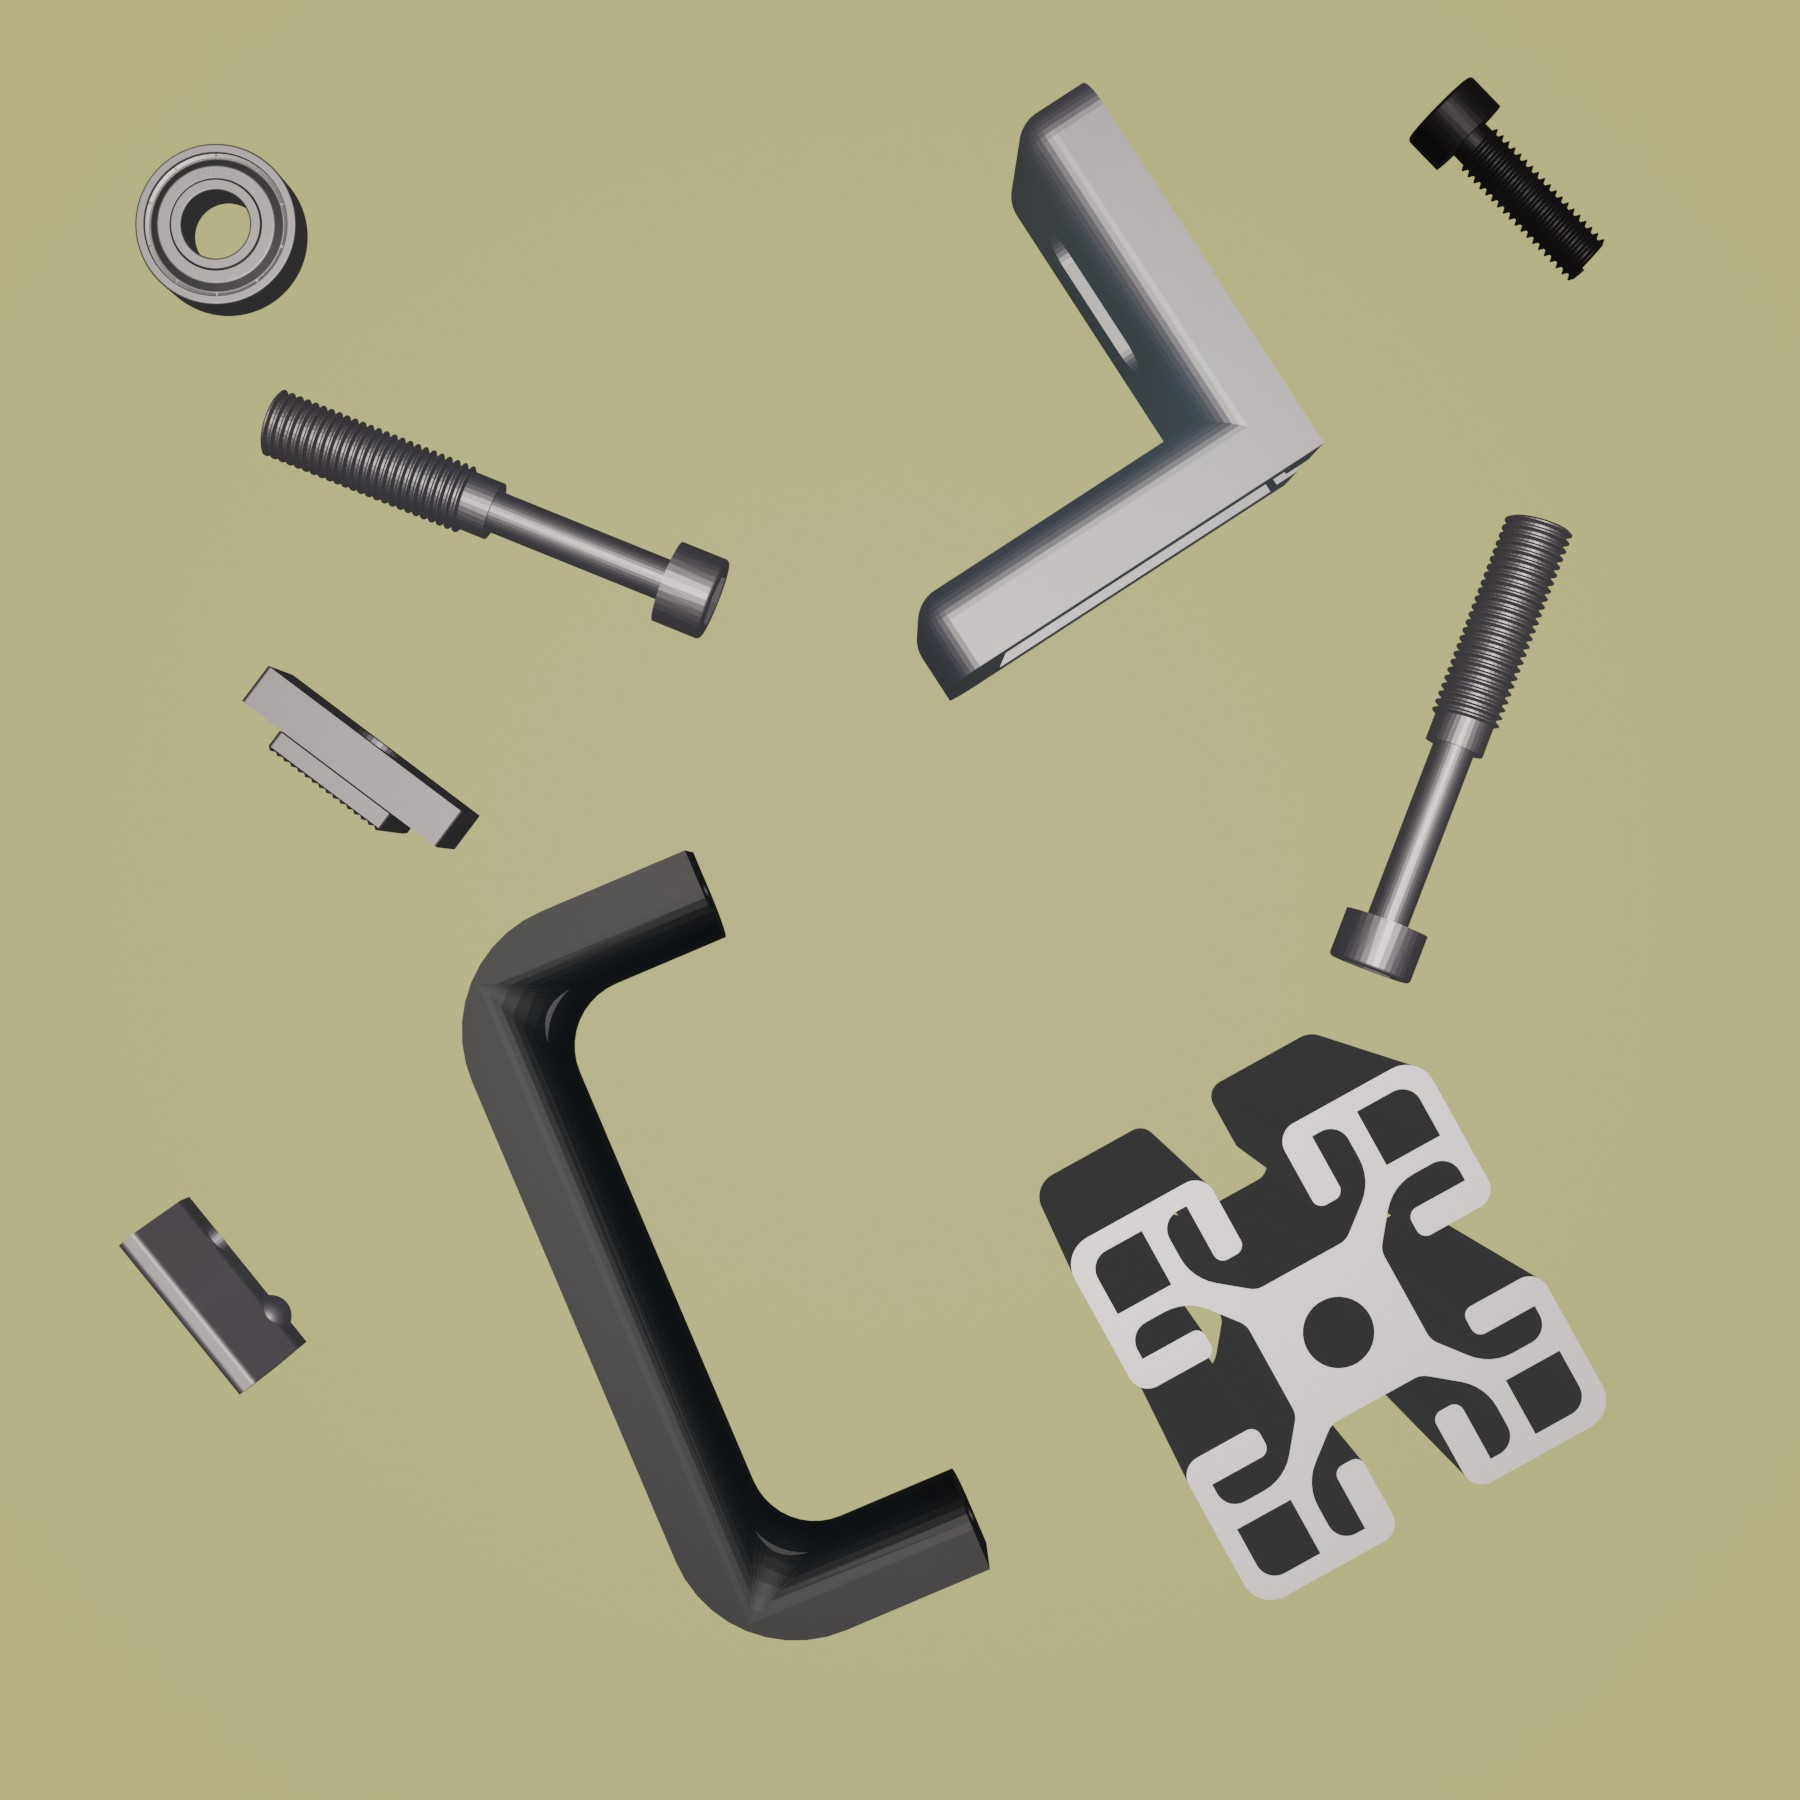Aluminium Extension: (1035, 1030, 1609, 1607)
Ball Bearing: (130, 142, 308, 320)
Multiwinkel: (912, 77, 1325, 702)
Pull Handle: (458, 846, 992, 1643)
Shoulder Socket Head Cap Screw: (255, 386, 730, 641), (1327, 511, 1574, 986)
Socket Head Cap Screw: (1406, 73, 1609, 284)
T Nut Square: (239, 664, 481, 854)
T Spring Nut: (119, 1193, 308, 1399)
